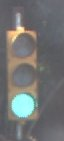Green: (4, 28, 43, 126)
